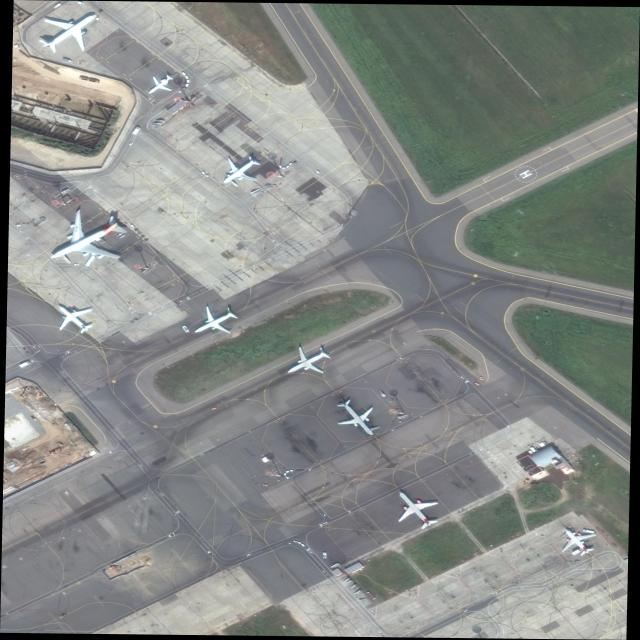plane: (31, 202, 140, 277), (27, 1, 113, 63), (381, 483, 449, 534), (327, 394, 389, 444), (183, 299, 245, 346), (275, 341, 339, 384), (45, 296, 104, 341), (210, 150, 269, 193), (549, 522, 603, 560), (139, 70, 179, 100)
small-vehicle: (62, 58, 73, 63), (53, 3, 62, 9), (77, 1, 85, 5), (474, 381, 480, 386), (128, 141, 133, 146), (479, 375, 483, 380), (315, 170, 320, 174), (74, 263, 79, 265)
